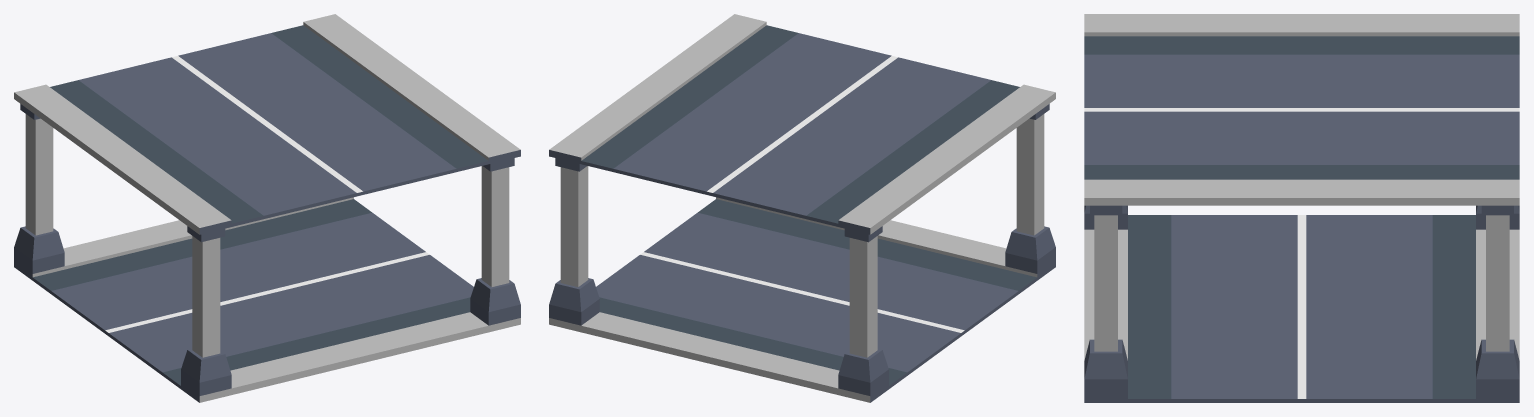
File: SM_Road_Bridge.fbx
3 renders of one model, left to right at view 1: azimuth 30°, elevation 25°; view 2: azimuth 150°, elevation 25°; view 3: azimuth 270°, elevation 25°, orthographic. The views are drawn at different scales.
Visible parts, largest first — view 1: SM_Road_Bridge; view 2: SM_Road_Bridge; view 3: SM_Road_Bridge.
Boxes of the visible parts, x1,y1,x2,y2 form: SM_Road_Bridge: (14,14,520,402); SM_Road_Bridge: (549,14,1055,402); SM_Road_Bridge: (1084,14,1519,402).
Size of the model in its own units: 1000 by 520 by 1000.
